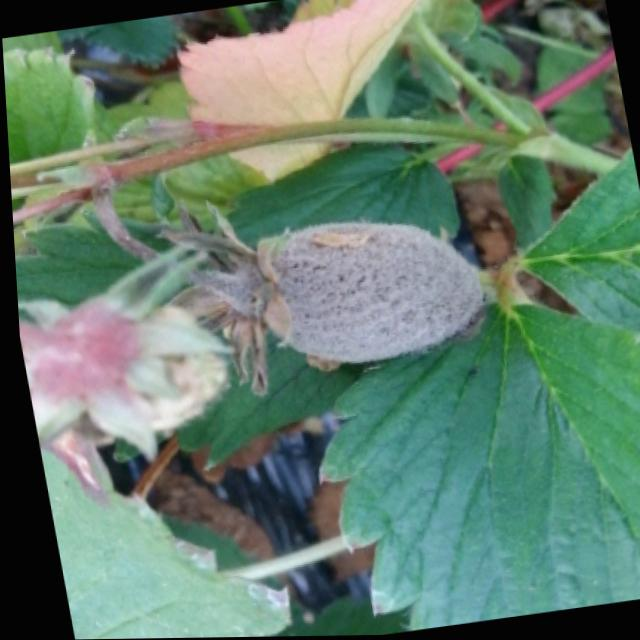Blossom Blight: (156, 200, 480, 396)
